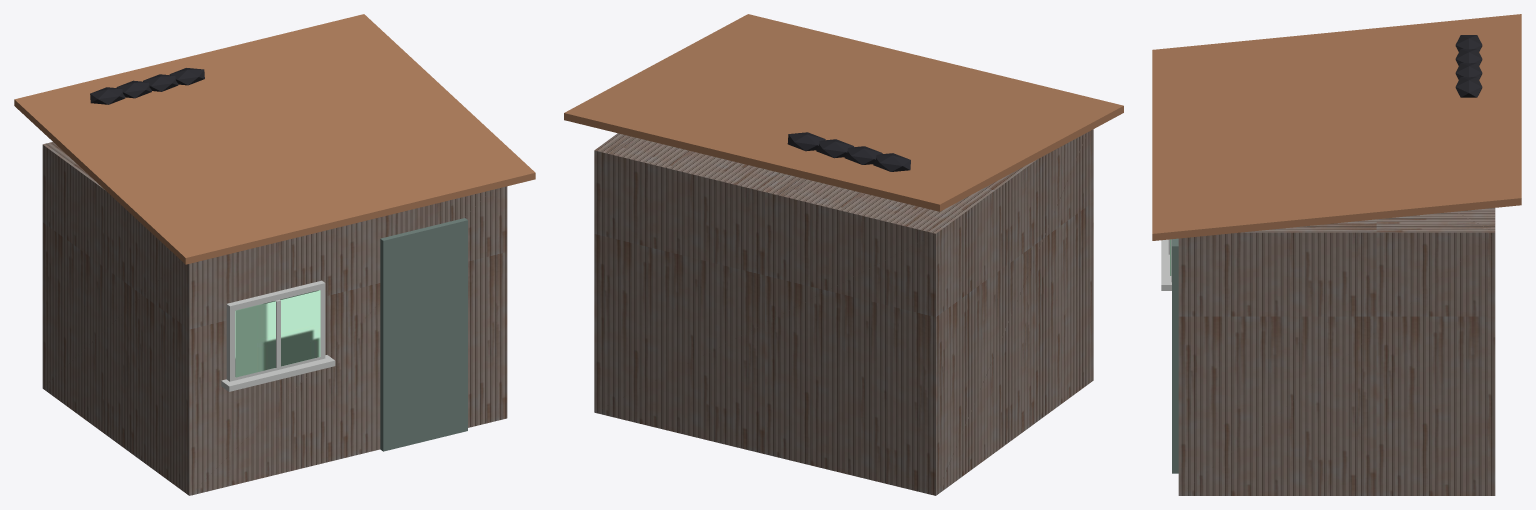
File: roof_shack.glb
3 renders of one model, left to right at view 1: azimuth 30°, elevation 25°; view 2: azimuth 150°, elevation 25°; view 3: azimuth 270°, elevation 25°, orthographic. The views are drawn at different scales.
Parts seen in each view (by area): view 1: roof_shack; view 2: roof_shack; view 3: roof_shack.
Boxes of the visible parts, <box> form: roof_shack: <box>14,14,535,495</box>; roof_shack: <box>564,14,1123,495</box>; roof_shack: <box>1152,14,1521,495</box>.
Bounding box in the file's own units: 3.3 × 2.66 × 2.8.
Materials: 6 (2 with a texture image).
